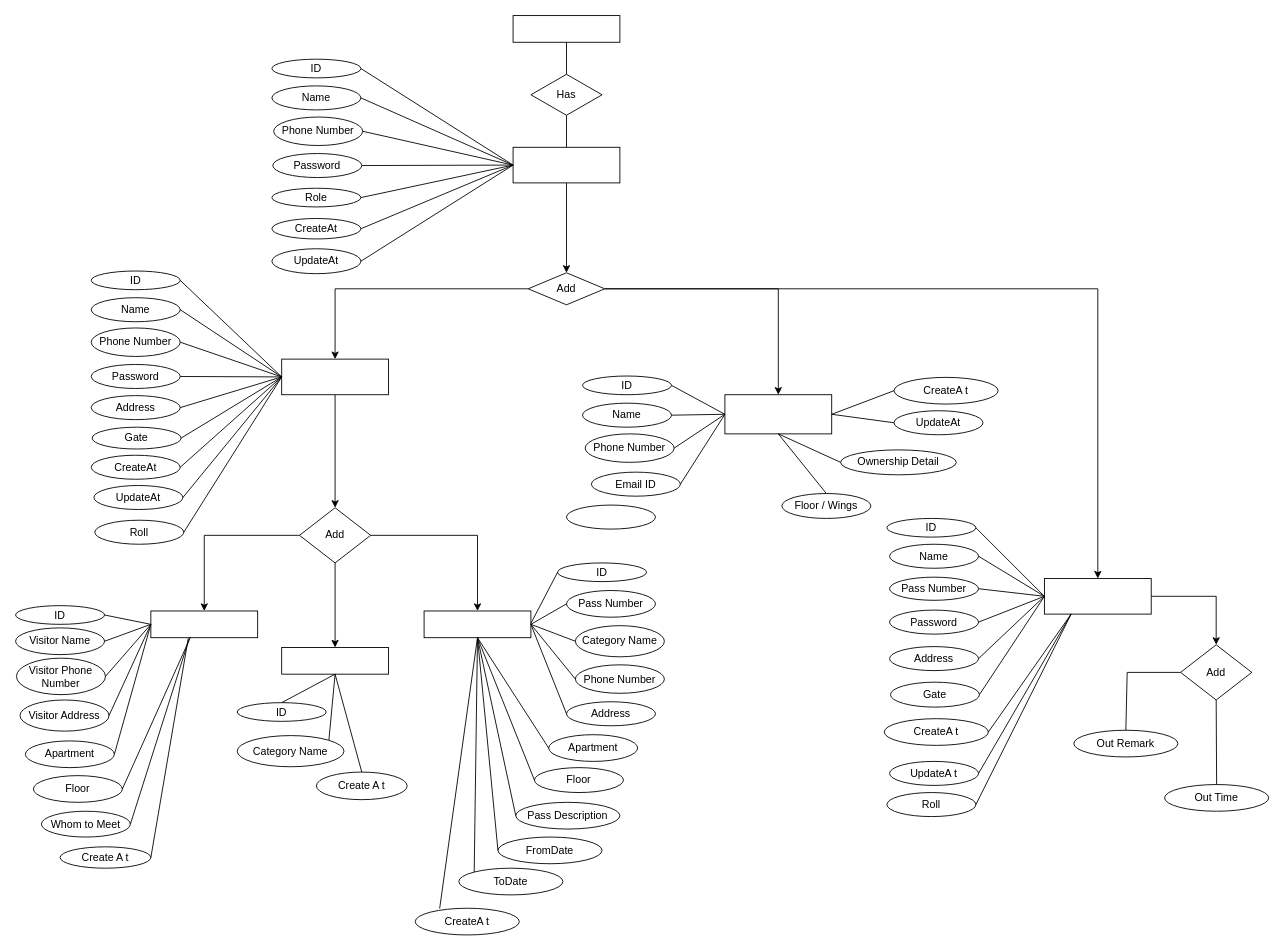
This 1284x951 diagram has some shape labels left out. The shapes that lost their labels are listed below. From the top down, each one's centre as x and y in pixels, then its label:
the point at 566,28: AVMS
the point at 566,164: Admin
the point at 334,376: Gatekeeper In
the point at 778,414: Apartment Details
the point at 610,516: Flate Number
the point at 1097,596: Gatekeeper Out
the point at 204,624: New Visitor
the point at 477,624: New Pass
the point at 334,660: Category
